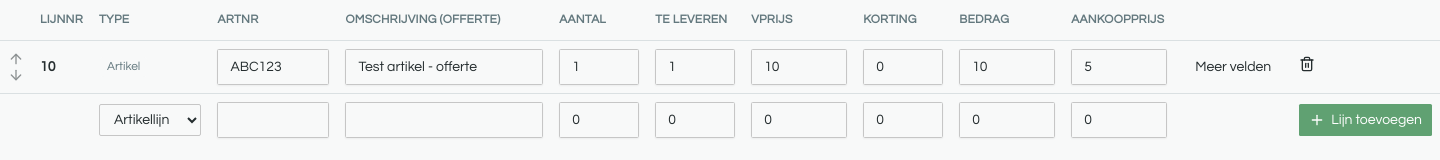
Test case: OfferteLijnenEditor - artikel lookup › persisted mode, existing row: pick commits once with the five-field patch
The width and height of the screenshot is (1440, 160).
Replace the text in the field named "artnr lijn" with "LED" at x=273, y=66, box x1=217 y1=48 x2=329 y2=84
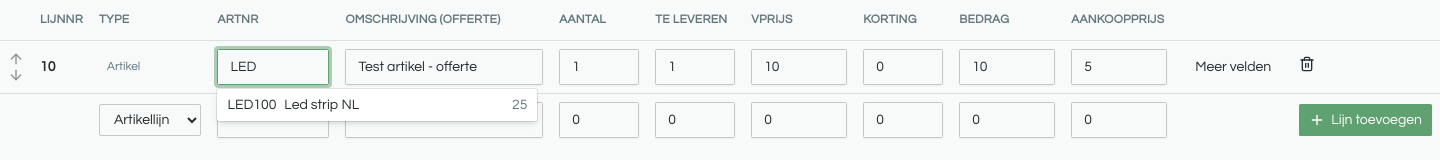
Click the option "LED100 Led strip NL 25" at x=252, y=104, box x1=217 y1=88 x2=537 y2=120
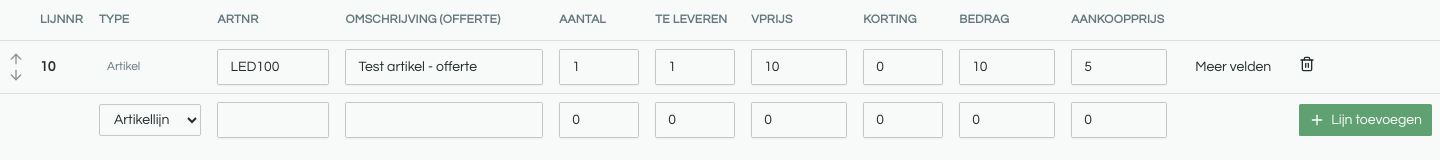
Expected: the list is gone
